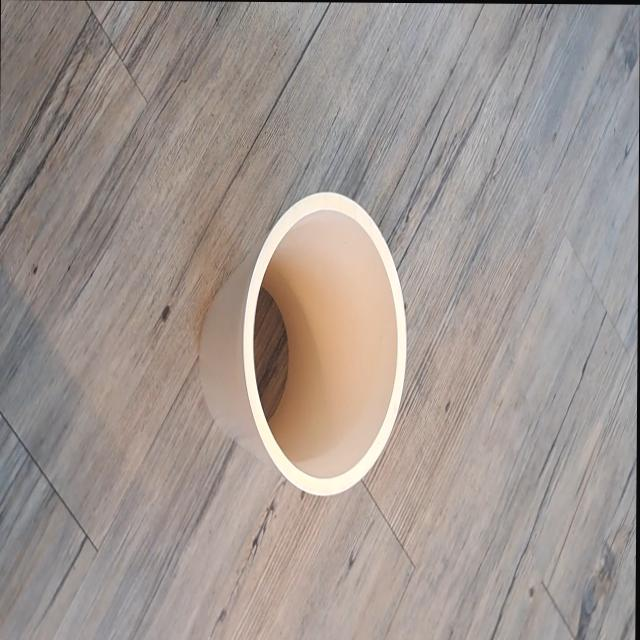CORAL: (179, 165, 424, 517)
